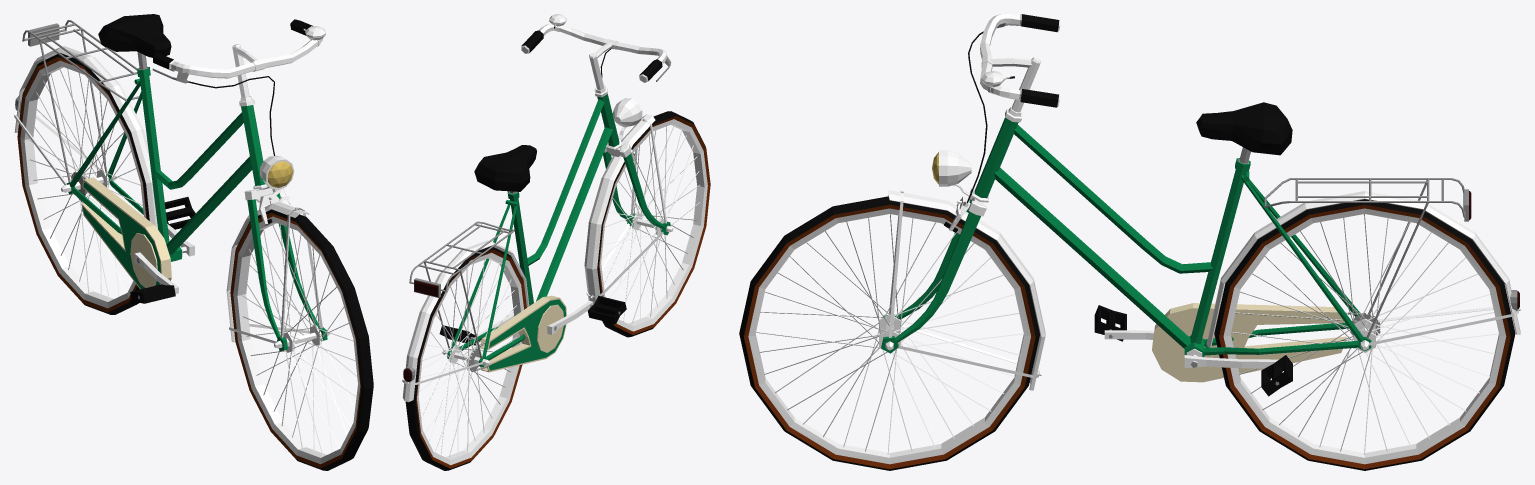
The model's file is LadiesBike_01.FBX.
The picture shows the model from 3 angles, left to right: view 1: azimuth 30°, elevation 25°; view 2: azimuth 150°, elevation 25°; view 3: azimuth 270°, elevation 25°; orthographic projection. The views are drawn at different scales.
Visible parts, largest first — view 1: wheel_f, wheel_b, LadiesBike_01, chain, mudguard_b, steering, saddle, luggageCarrier, mudguard_f, handlebar, light_f, brake_f (+3 smaller); view 2: wheel_b, wheel_f, LadiesBike_01, chain, mudguard_f, mudguard_b, saddle, luggageCarrier, steering, handlebar, pedal_r, light_f (+2 smaller); view 3: wheel_f, wheel_b, LadiesBike_01, chain, mudguard_b, mudguard_f, steering, saddle, luggageCarrier, handlebar, crankset, light_f (+2 smaller).
Boxes of the visible parts, x1=… form: wheel_f: x1=230, y1=209, x2=373, y2=470; wheel_b: x1=17, y1=53, x2=149, y2=314; LadiesBike_01: x1=66, y1=67, x2=267, y2=261; chain: x1=71, y1=171, x2=171, y2=289; mudguard_b: x1=14, y1=46, x2=157, y2=228; steering: x1=232, y1=44, x2=327, y2=351; saddle: x1=98, y1=14, x2=171, y2=69; luggageCarrier: x1=22, y1=20, x2=139, y2=182; mudguard_f: x1=226, y1=202, x2=322, y2=343; handlebar: x1=153, y1=19, x2=323, y2=78; light_f: x1=259, y1=155, x2=294, y2=189; brake_f: x1=152, y1=68, x2=290, y2=225; wheel_b: x1=405, y1=246, x2=526, y2=470; wheel_f: x1=597, y1=111, x2=710, y2=337; LadiesBike_01: x1=447, y1=85, x2=621, y2=367; chain: x1=469, y1=295, x2=566, y2=372; mudguard_f: x1=584, y1=114, x2=666, y2=304; mudguard_b: x1=402, y1=240, x2=529, y2=402; saddle: x1=474, y1=145, x2=536, y2=193; luggageCarrier: x1=409, y1=221, x2=514, y2=358; steering: x1=589, y1=39, x2=670, y2=235; handlebar: x1=521, y1=24, x2=667, y2=82; pedal_r: x1=587, y1=295, x2=626, y2=323; light_f: x1=612, y1=98, x2=642, y2=139; wheel_f: x1=739, y1=196, x2=1039, y2=470; wheel_b: x1=1214, y1=199, x2=1515, y2=470; LadiesBike_01: x1=971, y1=106, x2=1371, y2=357; chain: x1=1152, y1=303, x2=1380, y2=382; mudguard_b: x1=1207, y1=191, x2=1520, y2=347; mudguard_f: x1=888, y1=190, x2=1045, y2=390; steering: x1=881, y1=55, x2=1040, y2=353; saddle: x1=1196, y1=102, x2=1292, y2=163; luggageCarrier: x1=1263, y1=178, x2=1471, y2=338; handlebar: x1=980, y1=14, x2=1060, y2=107; crankset: x1=1104, y1=330, x2=1278, y2=368; light_f: x1=932, y1=150, x2=971, y2=197.
Size of the model in its own units: 4.97 by 11.88 by 19.59.
